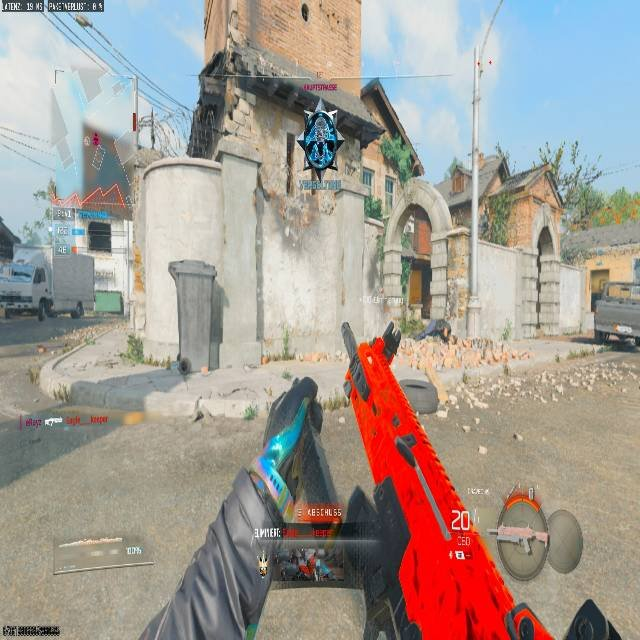head: (382, 320, 401, 351)
player: (300, 97, 341, 175)
